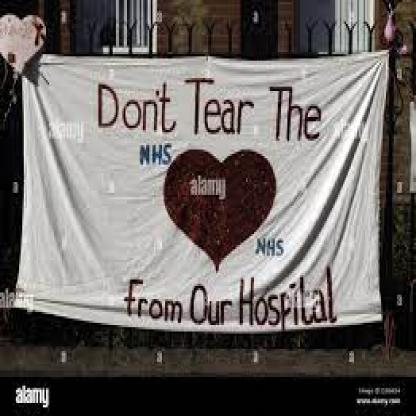BANNER: (16, 50, 389, 332)
